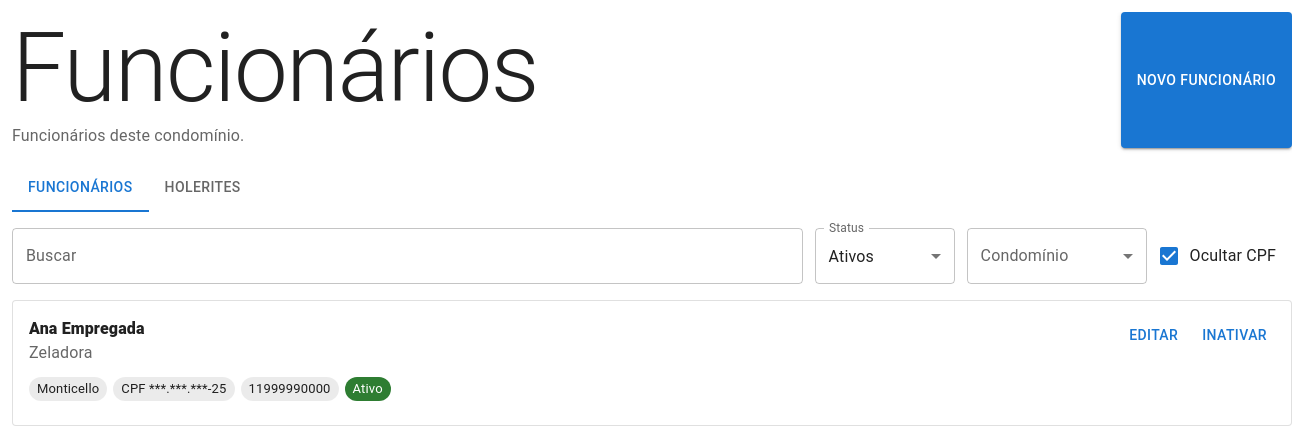
Scenario: EmployeesManager listing › masks CPF by default and reveals it when "Ocultar CPF" is unchecked
expect the text "CPF ***.***.***-25" is shown: met, box [113,379,234,399]
Click the checkbox labelled "Ocultar CPF": (1216, 256) [1157,244,1276,268]
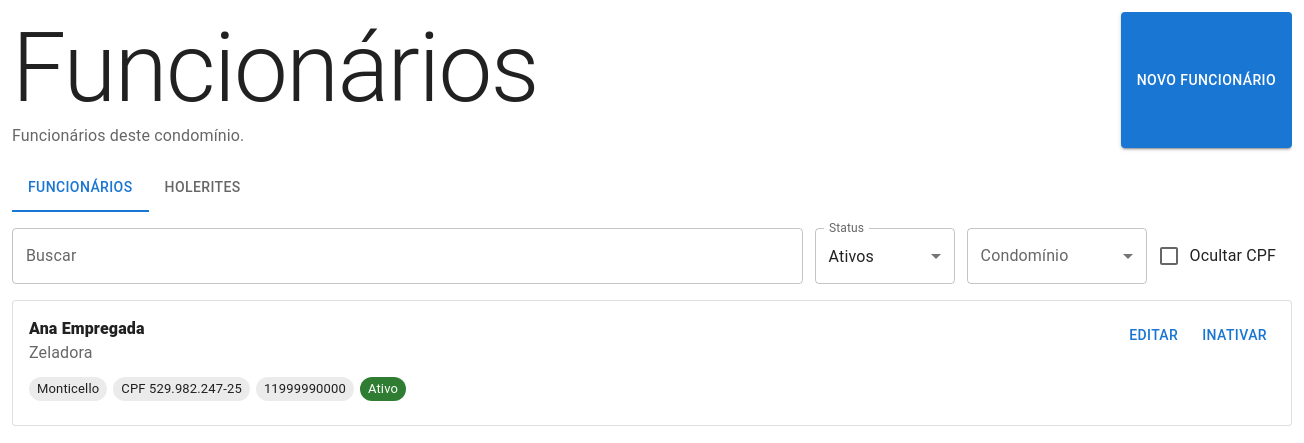
expect the text "CPF 529.982.247-25" is shown: met, box [113,379,250,399]
